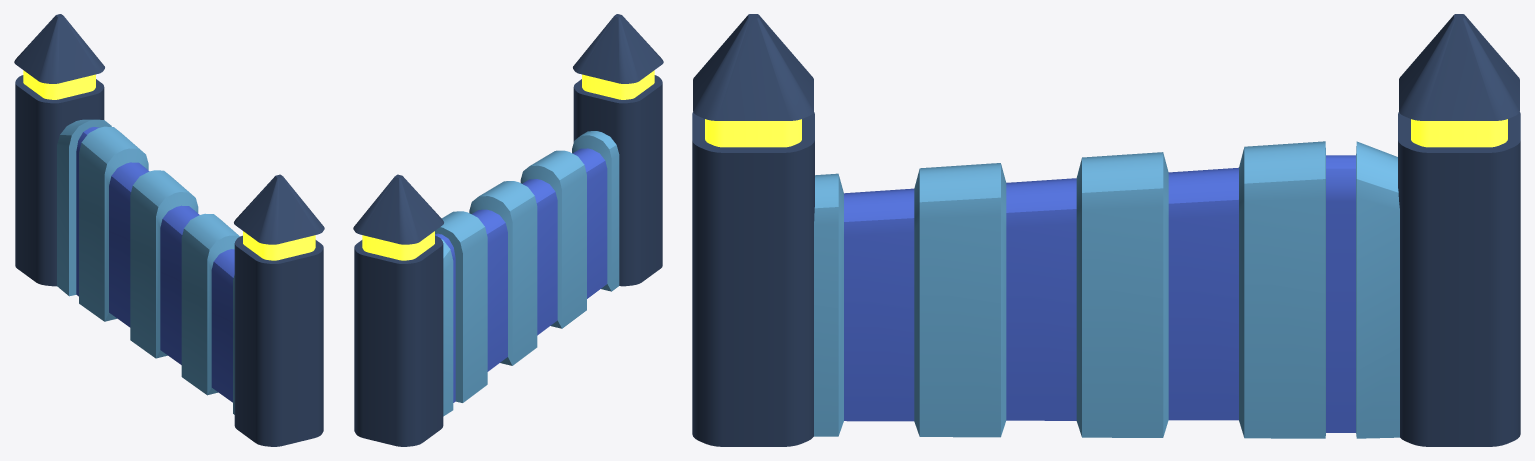
The model's file is Door.fbx.
3 views of the same model, side by side, from view 1: azimuth 30°, elevation 25°; view 2: azimuth 150°, elevation 25°; view 3: azimuth 270°, elevation 25° (orthographic). The views are drawn at different scales.
Visible parts, largest first — view 1: Base, Puerta; view 2: Base, Puerta; view 3: Puerta, Base.
Part boxes in pixels (x1,y1,x2,y2): Base: (14,14,324,446); Puerta: (57,119,239,414); Base: (353,14,663,446); Puerta: (435,131,619,416); Puerta: (814,141,1399,438); Base: (692,14,1520,446).
Bounding box in the file's own units: 35.16 × 128 × 237.
